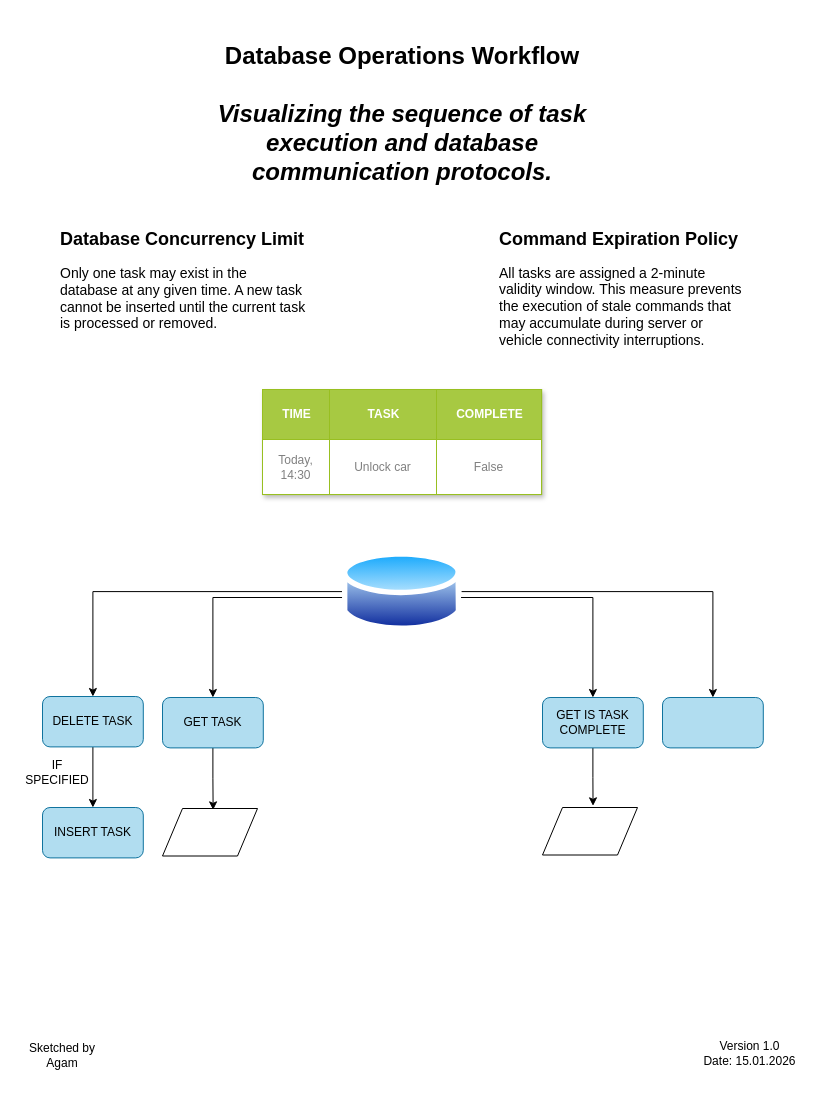
Some shapes in this 820 by 1097 pixel diagram are drawn without their labels. The centre of each missing label's shape, as x and y in pixels:
"BOOL" goes at point 590,830.
"DICT" goes at point 210,832.
"MARK TASK COMPLETE" goes at point 712,722.
